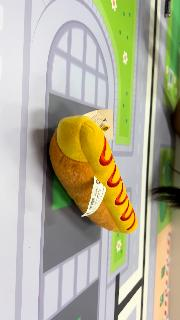hotdog: (49, 115, 139, 235)
